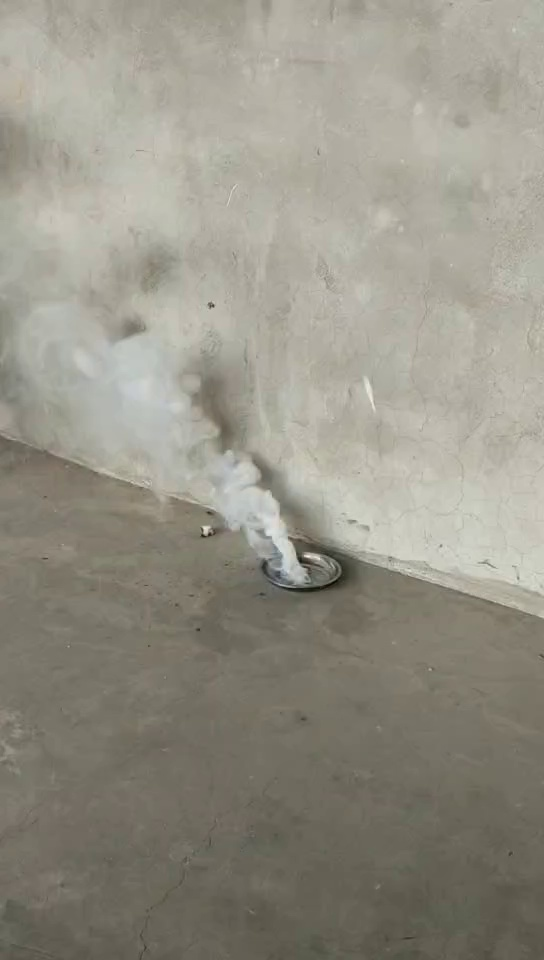smoke: (60, 319, 302, 582)
